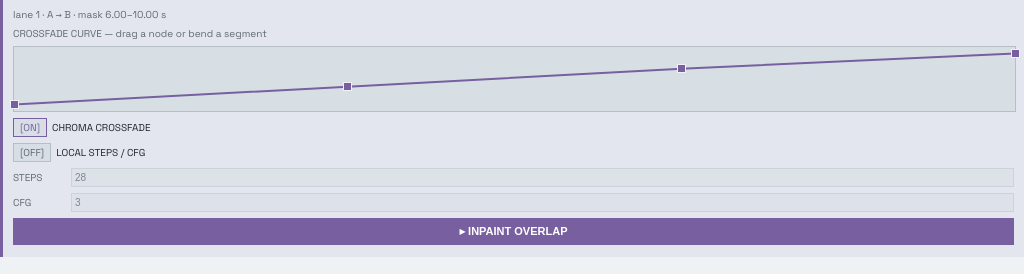
Test: OverlapInpaint.svelte (spec §4.6.1) › LOCAL STEPS / CFG is off by default, and the STEPS/CFG fields are disabled until it is on
Expected: the number field with test id "overlap-steps" is disabled, top-left (71, 168), bottom-right (1014, 187)
Expected: the number field with test id "overlap-cfg" is disabled, top-left (71, 193), bottom-right (1014, 212)
Click the button with test id "overlap-override" at (32, 152), box top-left (13, 143), bottom-right (51, 162)
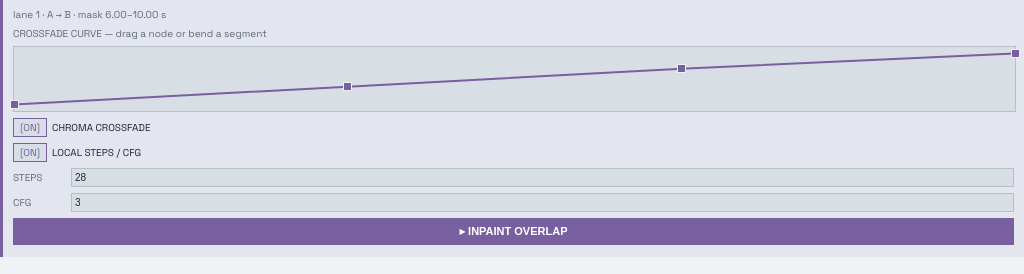
Expected: the number field with test id "overlap-steps" is enabled, top-left (71, 168), bottom-right (1014, 187)
